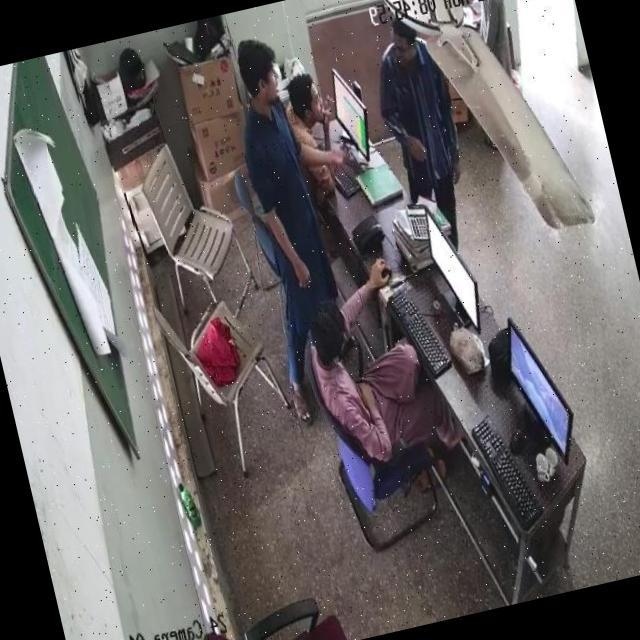person: (216, 44, 339, 364), (296, 285, 426, 458), (369, 6, 464, 210), (274, 58, 340, 198)
